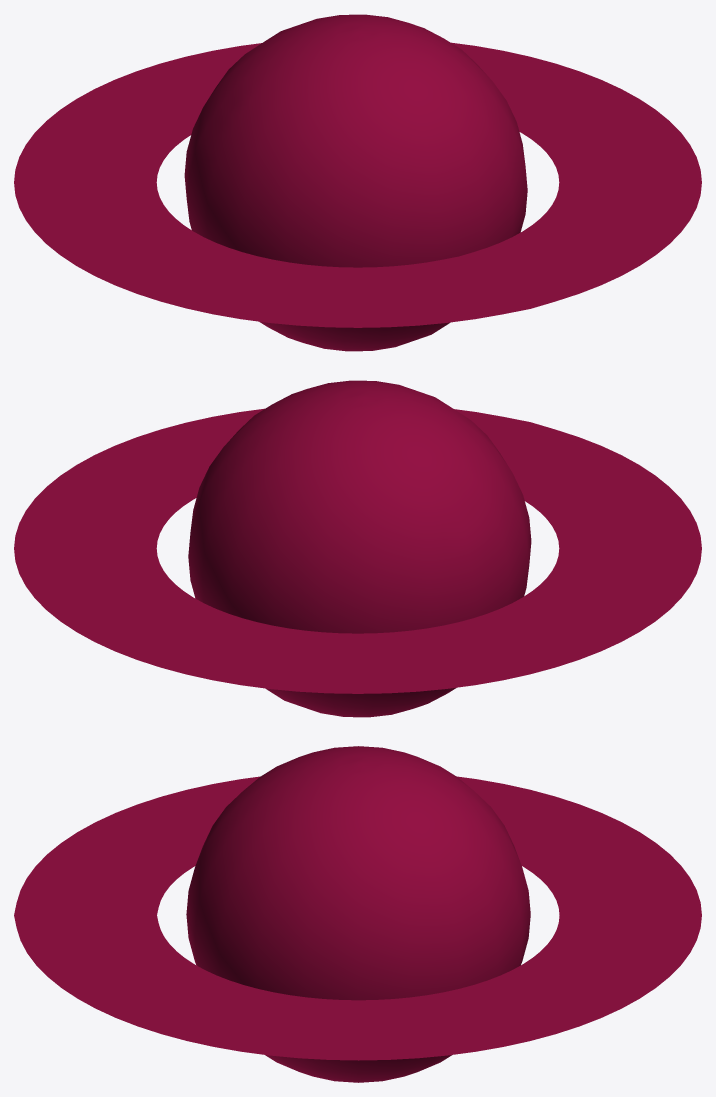
The model's file is Saturn.obj.
3 renders of one model, top to bottom at view 1: azimuth 30°, elevation 25°; view 2: azimuth 150°, elevation 25°; view 3: azimuth 270°, elevation 25°, orthographic.
Parts seen in each view (by area): view 1: Saturn; view 2: Saturn; view 3: Saturn.
Boxes of the visible parts, bbox=[...] form: Saturn: bbox=[14, 14, 701, 351]; Saturn: bbox=[14, 380, 701, 717]; Saturn: bbox=[14, 746, 701, 1082].
Bounding box in the file's own units: 473 × 231 × 473.
